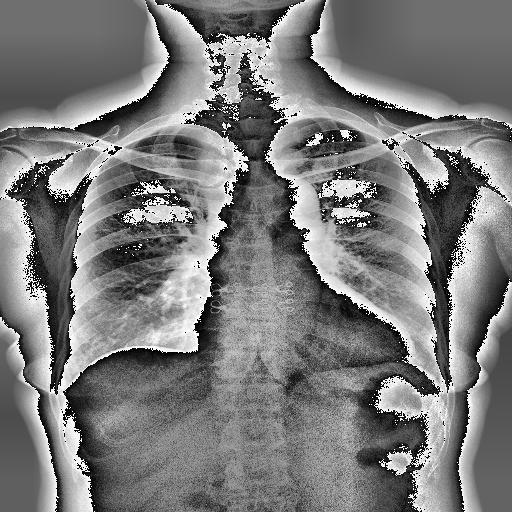0- Aortic enlargement: (250, 170, 326, 244), (252, 173, 324, 228), (261, 174, 324, 232)
3- Cardiomegaly: (184, 309, 424, 378), (195, 312, 418, 366), (192, 320, 416, 372)
